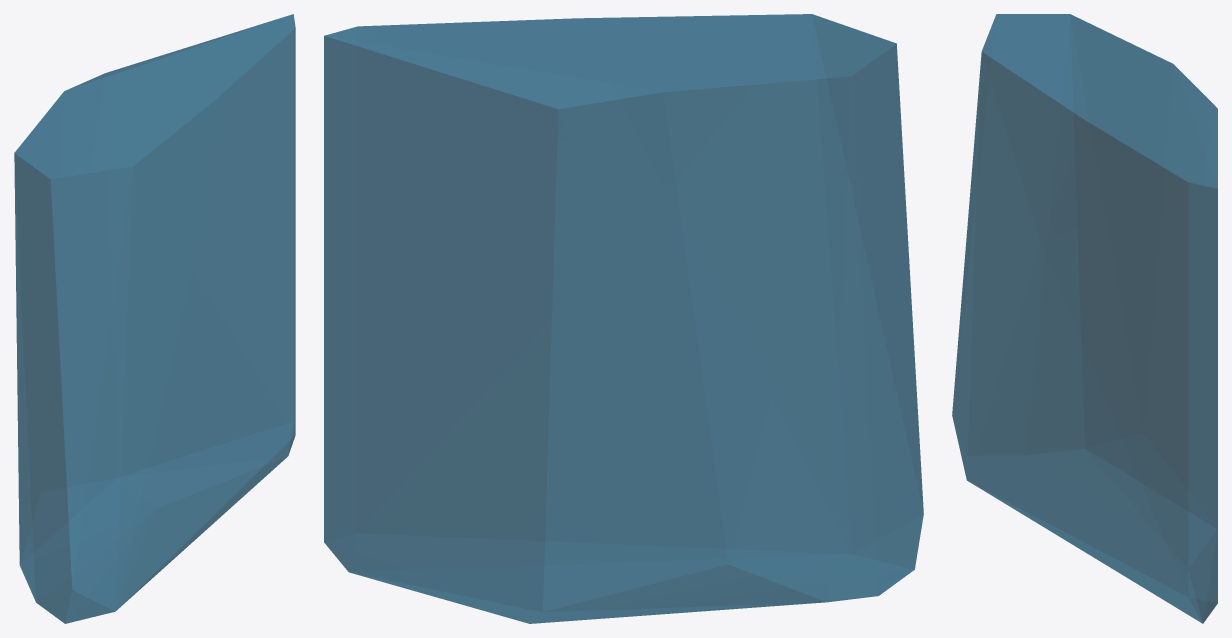
The picture shows the model from 3 angles, left to right: view 1: azimuth 30°, elevation 25°; view 2: azimuth 150°, elevation 25°; view 3: azimuth 270°, elevation 25°; orthographic projection. The views are drawn at different scales.
Parts seen in each view (by area): view 1: Shape_IndexedFaceSet.066_Shape_IndexedFaceSet.16468; view 2: Shape_IndexedFaceSet.066_Shape_IndexedFaceSet.16468; view 3: Shape_IndexedFaceSet.066_Shape_IndexedFaceSet.16468.
Part boxes in pixels (x1,y1,x2,y2): Shape_IndexedFaceSet.066_Shape_IndexedFaceSet.16468: (14, 14, 295, 623); Shape_IndexedFaceSet.066_Shape_IndexedFaceSet.16468: (324, 14, 923, 623); Shape_IndexedFaceSet.066_Shape_IndexedFaceSet.16468: (952, 14, 1217, 623).
Bounding box in the file's own units: 0.00643 × 0.00781 × 0.00413.
